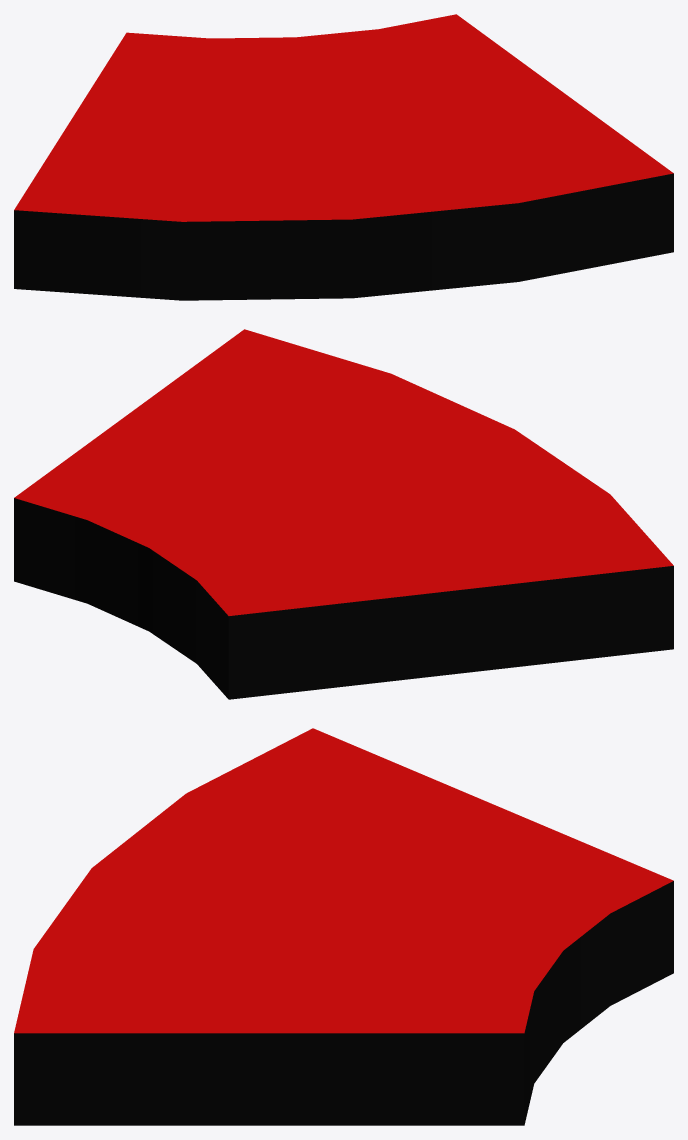
File: PlatformArchFlat_45Deg.fbx
The picture shows the model from 3 angles, top to bottom: view 1: azimuth 30°, elevation 25°; view 2: azimuth 150°, elevation 25°; view 3: azimuth 270°, elevation 25°; orthographic projection. The views are drawn at different scales.
Visible parts, largest first — view 1: PlatformArchFlat_45Deg; view 2: PlatformArchFlat_45Deg; view 3: PlatformArchFlat_45Deg.
Part boxes in pixels (left/top/right/bottom): PlatformArchFlat_45Deg: left=14, top=14, right=673, bottom=300; PlatformArchFlat_45Deg: left=14, top=329, right=673, bottom=699; PlatformArchFlat_45Deg: left=14, top=728, right=673, bottom=1125.
Bounding box in the file's own units: 7.07 × 1 × 6.46.
